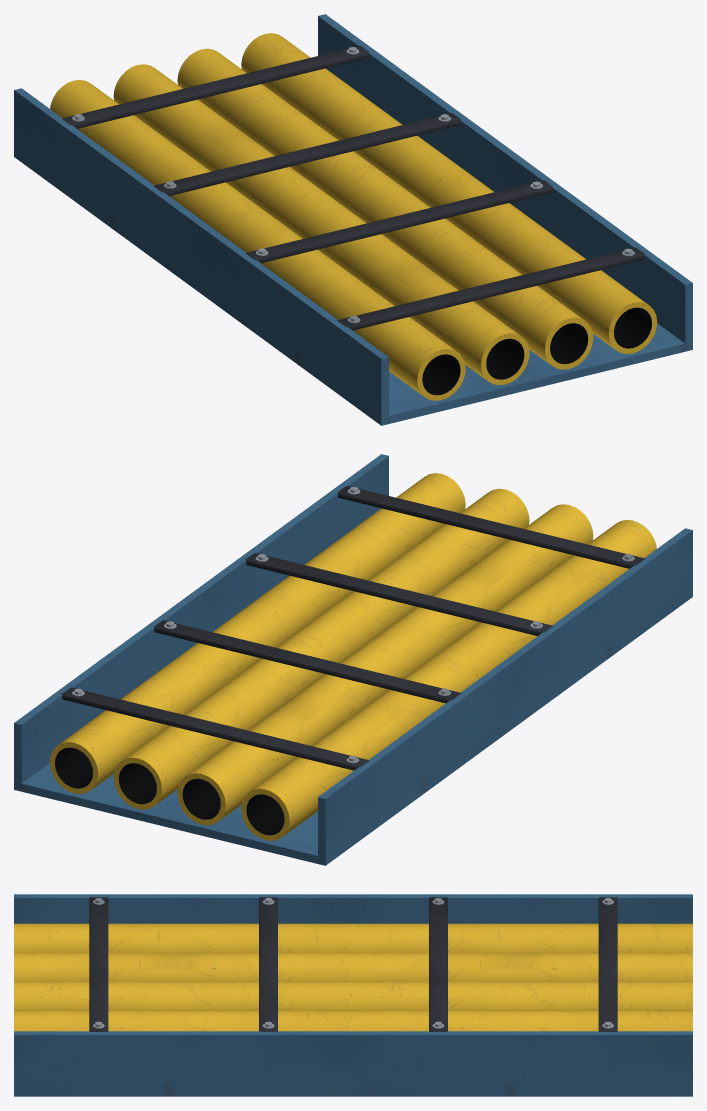
File: tubes_long.glb
3 views of the same model, one above another, from view 1: azimuth 30°, elevation 25°; view 2: azimuth 150°, elevation 25°; view 3: azimuth 270°, elevation 25° (orthographic). The views are drawn at different scales.
Visible parts, largest first — view 1: Body; view 2: Body; view 3: Body.
Boxes of the visible parts, left/top/right/bottom form: Body: left=14, top=14, right=692, bottom=425; Body: left=14, top=454, right=692, bottom=865; Body: left=14, top=894, right=692, bottom=1096.
Bounding box in the file's own units: 0.488 × 0.1053 × 0.997.
Materials: 5 (4 with a texture image).
